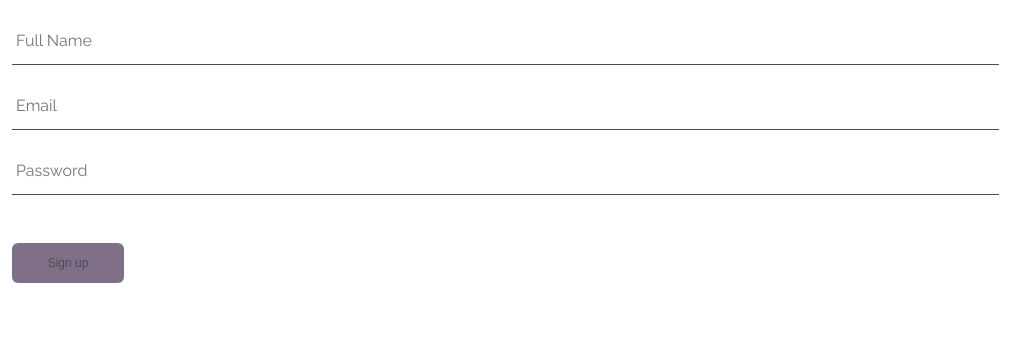
Test: RegistrationForm › shows error for invalid password format
The width and height of the screenshot is (1016, 360).
Type "Adam Smith" into the field with placeholder "Full Name".
click(506, 40); type("Adam Smith")  # box [12,16,999,65]
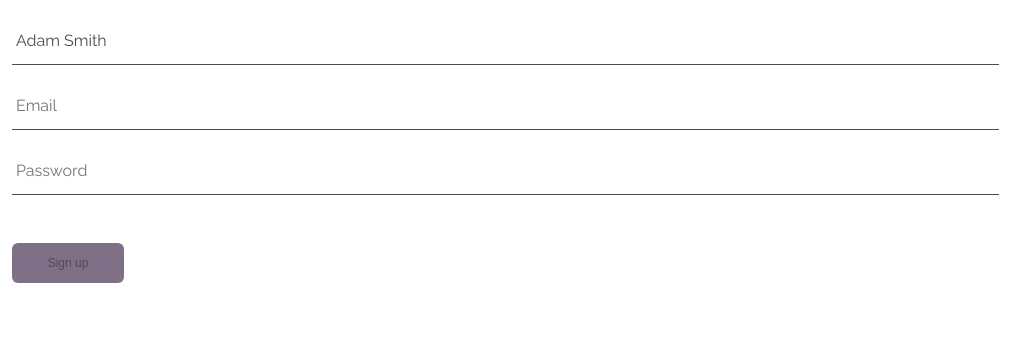
Type " smith@gmail.com" into the field with placeholder "Email".
click(506, 106); type(" smith@gmail.com")  # box [12,81,999,130]
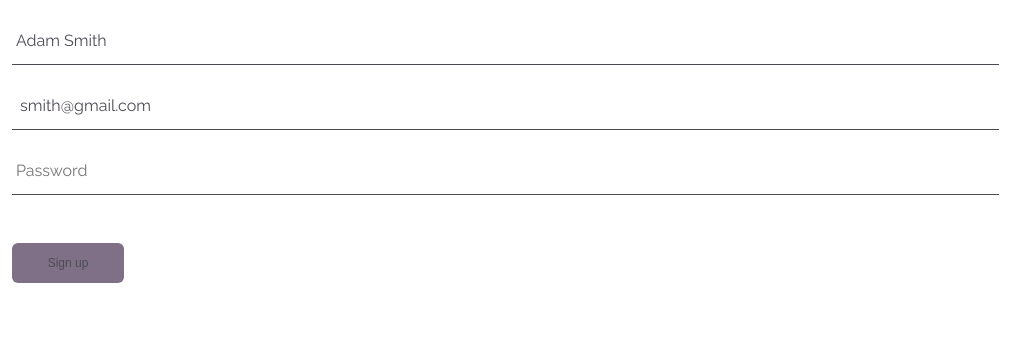
Type " 1111" into the password field with placeholder "Password".
click(506, 170); type(" 1111")  # box [12,146,999,195]
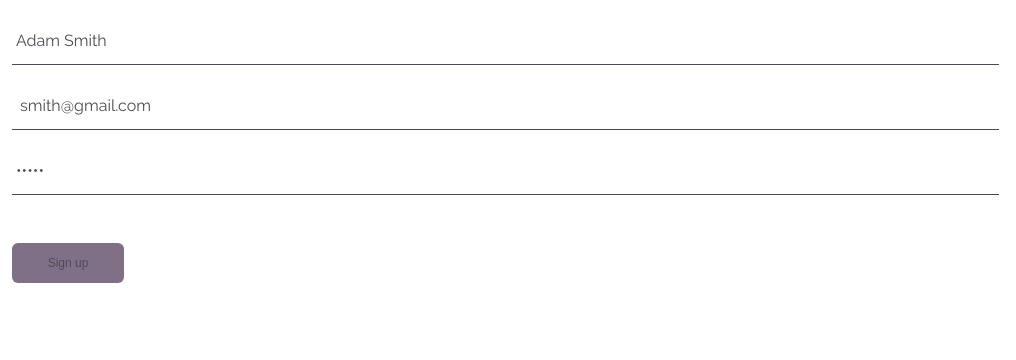
Click the button "Sign up".
click(68, 263)  # box [12,243,124,283]
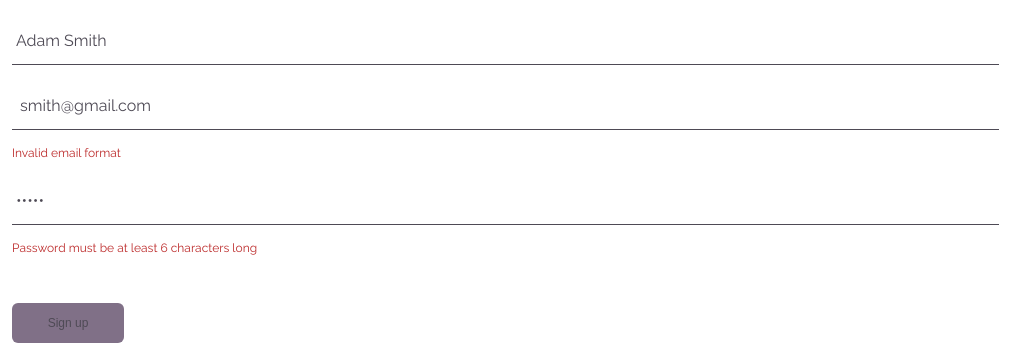
Check: the text "Password must be at least 6 characters long" is shown, box [12,241,257,255]
